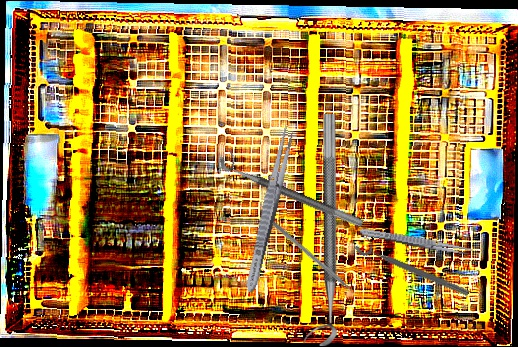Dressing Forceps: (242, 124, 297, 294), (358, 226, 475, 257)
Fixation Ring: (215, 146, 370, 229), (353, 233, 474, 300), (303, 114, 337, 346)
Pusher: (270, 220, 365, 304)
